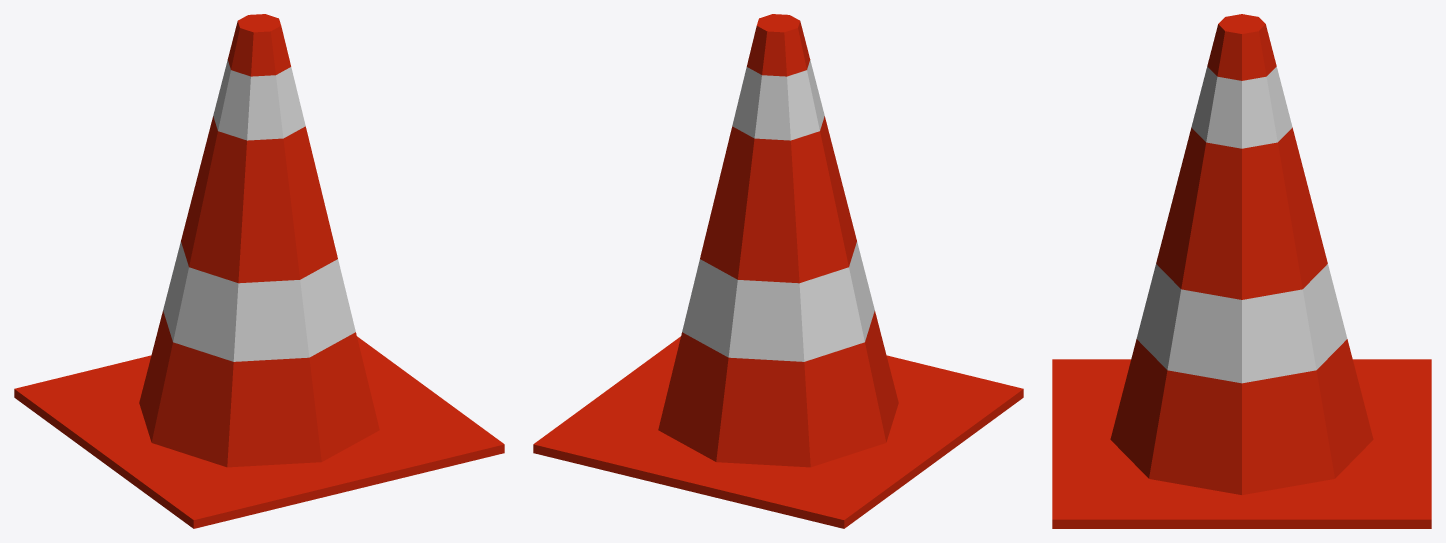
The model's file is roadcone-001.fbx.
The picture shows the model from 3 angles, left to right: view 1: azimuth 30°, elevation 25°; view 2: azimuth 150°, elevation 25°; view 3: azimuth 270°, elevation 25°; orthographic projection. The views are drawn at different scales.
Parts seen in each view (by area): view 1: roadcone-001; view 2: roadcone-001; view 3: roadcone-001.
Boxes of the visible parts, bbox=[...] form: roadcone-001: bbox=[14, 14, 504, 528]; roadcone-001: bbox=[533, 14, 1023, 528]; roadcone-001: bbox=[1052, 14, 1431, 528].
Size of the model in its own units: 400 by 494 by 400.
